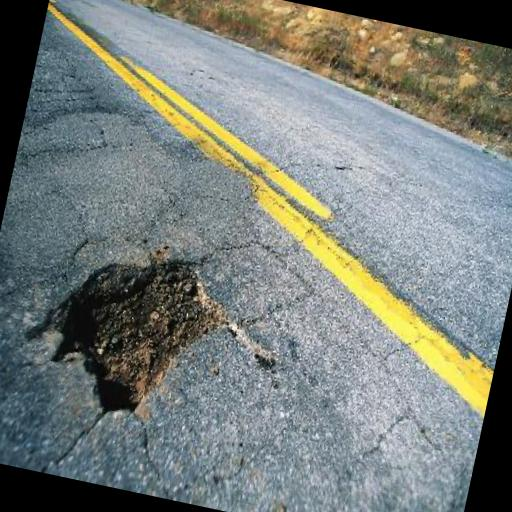pothole: (10, 224, 244, 441)
